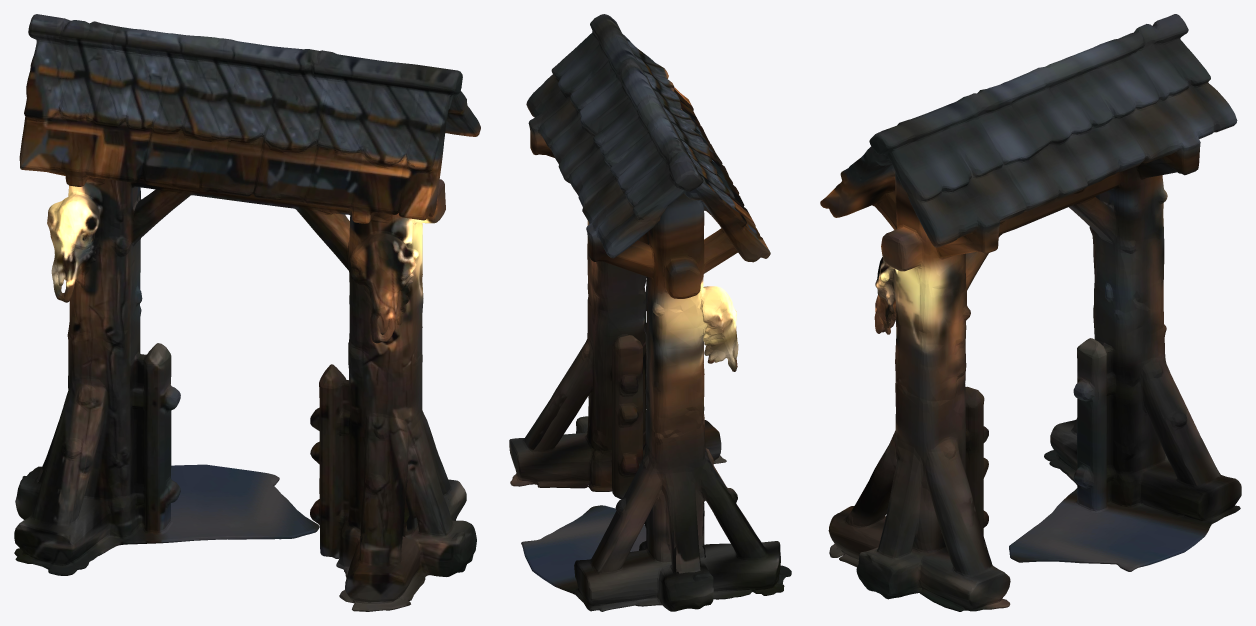
File: gate.glb
The picture shows the model from 3 angles, left to right: view 1: azimuth 30°, elevation 25°; view 2: azimuth 150°, elevation 25°; view 3: azimuth 270°, elevation 25°; orthographic projection. The views are drawn at different scales.
Visible parts, largest first — view 1: gate; view 2: gate; view 3: gate.
Boxes of the visible parts, <box> form: gate: <box>14,14,480,611</box>; gate: <box>509,14,791,611</box>; gate: <box>820,14,1241,611</box>.
Size of the model in its own units: 3.03 by 3.8 by 3.15.
1 material, 1 textured.
